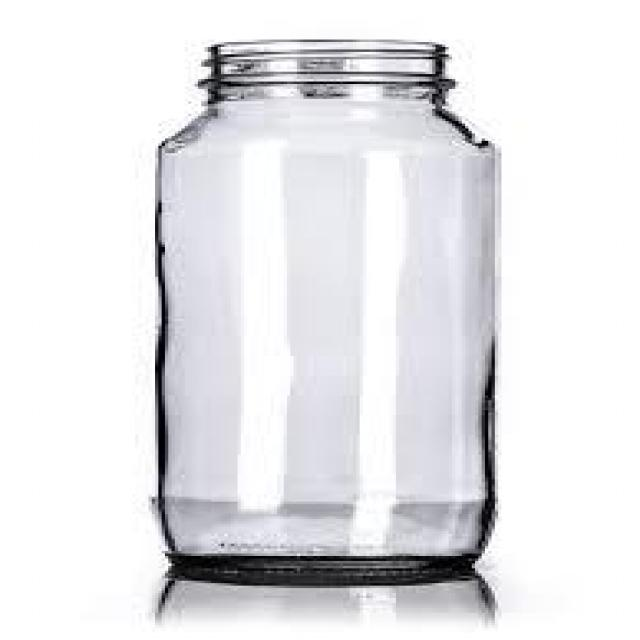non-organic waste: (145, 33, 515, 590)
